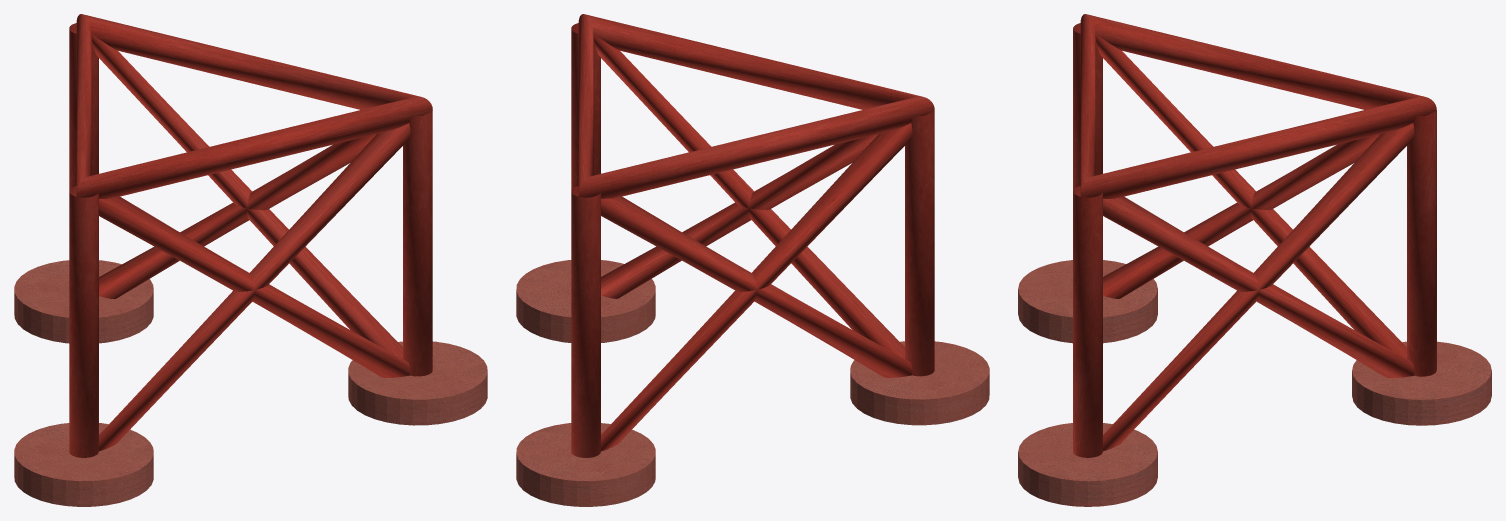
The model's file is TowerBase.fbx.
The picture shows the model from 3 angles, left to right: view 1: azimuth 30°, elevation 25°; view 2: azimuth 150°, elevation 25°; view 3: azimuth 270°, elevation 25°; orthographic projection.
Visible parts, largest first — view 1: TowerBase; view 2: TowerBase; view 3: TowerBase.
Part boxes in pixels (left/top/right/bottom): TowerBase: left=14, top=14, right=487, bottom=506; TowerBase: left=516, top=14, right=989, bottom=506; TowerBase: left=1018, top=14, right=1491, bottom=506.
Size of the model in its own units: 4059 by 2558 by 3660.
